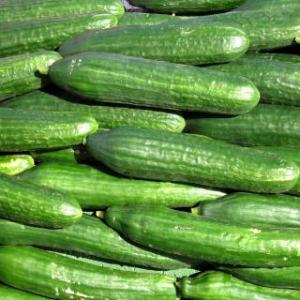cucumber: (85, 126, 298, 192), (44, 50, 260, 113), (100, 202, 300, 264), (0, 244, 182, 300), (56, 23, 252, 63), (0, 172, 82, 226), (0, 108, 100, 152)
